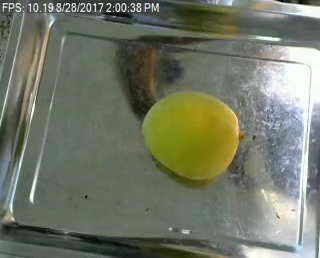Mango: (141, 90, 239, 177)
